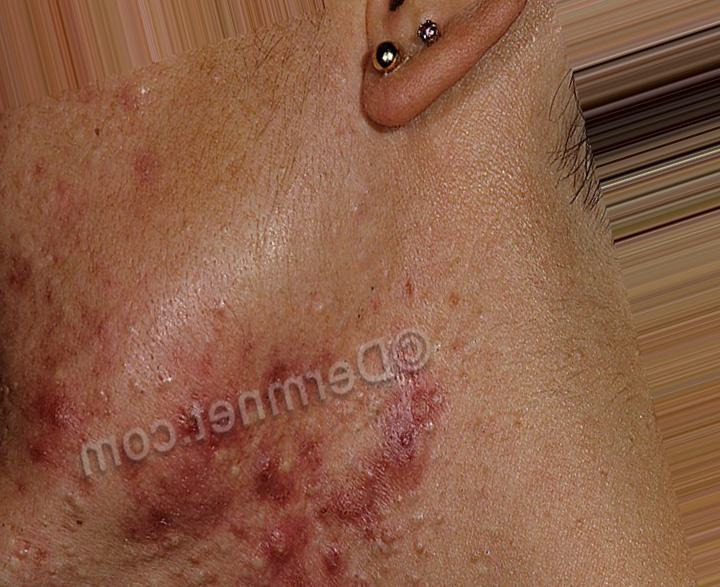Acne: (18, 170, 474, 570)
